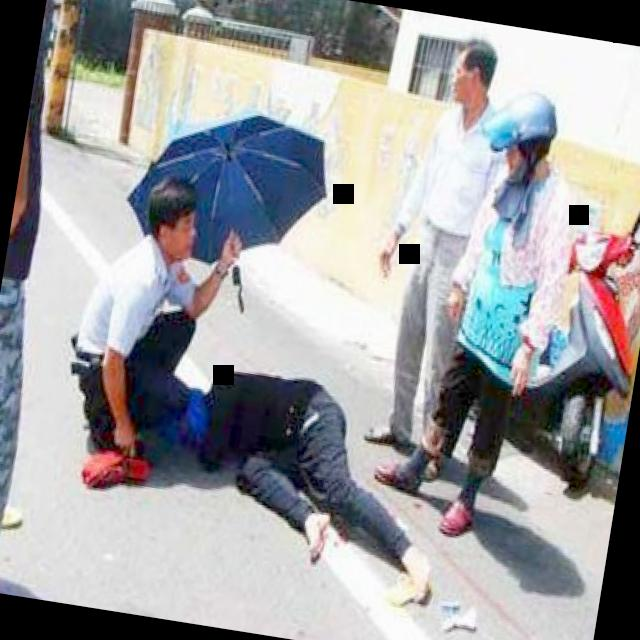Fall-Detected: (112, 332, 474, 602)
